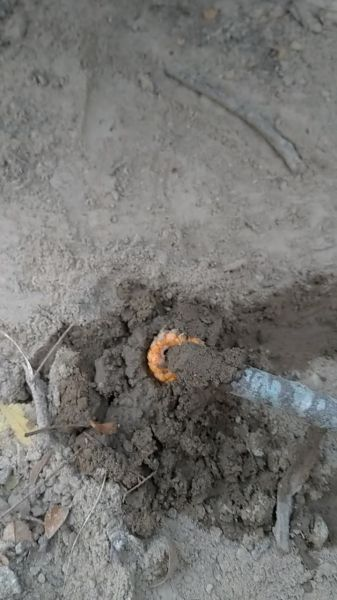eggs: (146, 326, 213, 386)
